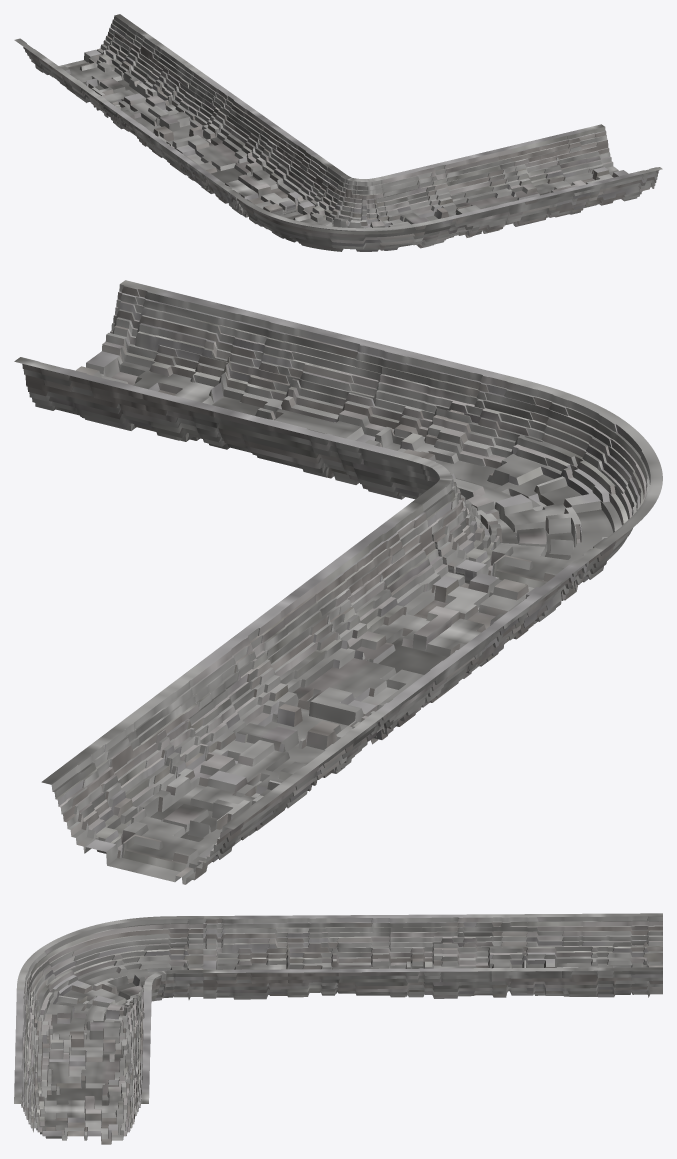
The model's file is deathstar-trench-placeholder-curved.fbx.
The picture shows the model from 3 angles, top to bottom: view 1: azimuth 30°, elevation 25°; view 2: azimuth 150°, elevation 25°; view 3: azimuth 270°, elevation 25°; orthographic projection. The views are drawn at different scales.
Visible parts, largest first — view 1: Landscape.001; view 2: Landscape.001; view 3: Landscape.001.
Boxes of the visible parts, x1,y1,x2,y2 form: Landscape.001: (14, 14, 662, 251); Landscape.001: (14, 280, 662, 884); Landscape.001: (14, 913, 662, 1144).
Size of the model in its own units: 1001 by 100 by 1442.
1 material, 1 textured.
